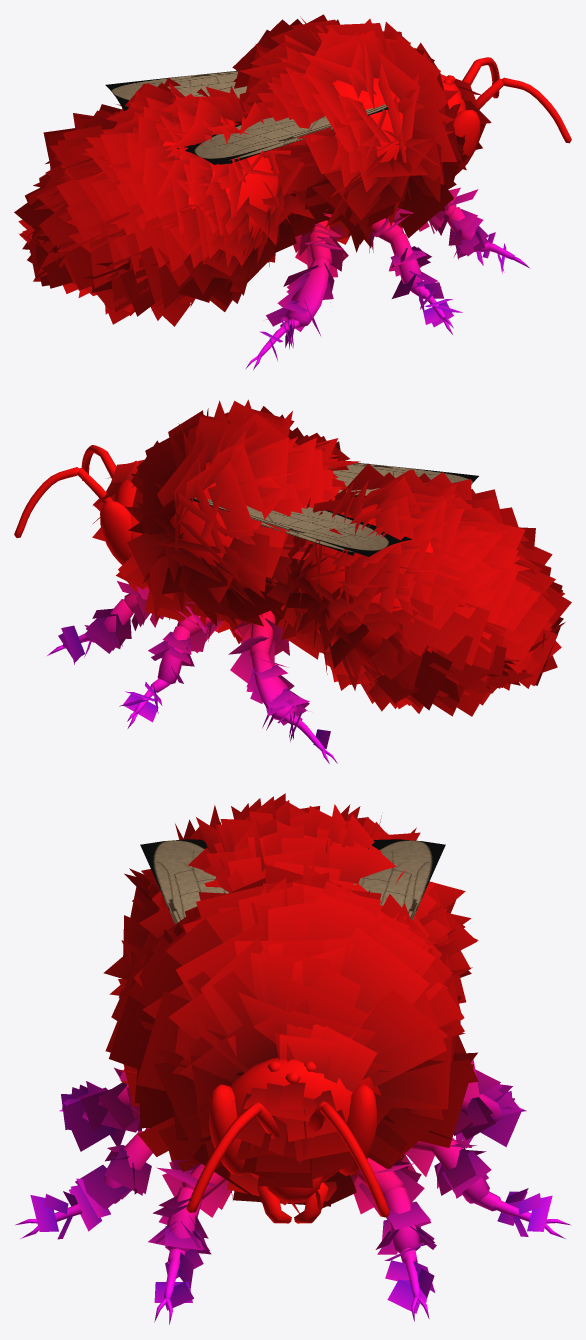
Rendered from SM_Bumblebee_Landed_LOD1.fbx.
3 renders of one model, top to bottom at view 1: azimuth 30°, elevation 25°; view 2: azimuth 150°, elevation 25°; view 3: azimuth 270°, elevation 25°, orthographic. The views are drawn at different scales.
Parts seen in each view (by area): view 1: SM_Bumblebee_Landed_LOD1; view 2: SM_Bumblebee_Landed_LOD1; view 3: SM_Bumblebee_Landed_LOD1.
Part boxes in pixels (x1,y1,x2,y2): SM_Bumblebee_Landed_LOD1: [14, 14, 571, 369]; SM_Bumblebee_Landed_LOD1: [14, 399, 571, 763]; SM_Bumblebee_Landed_LOD1: [15, 793, 570, 1324].
Size of the model in its own units: 3.21 by 1.5 by 2.19.
